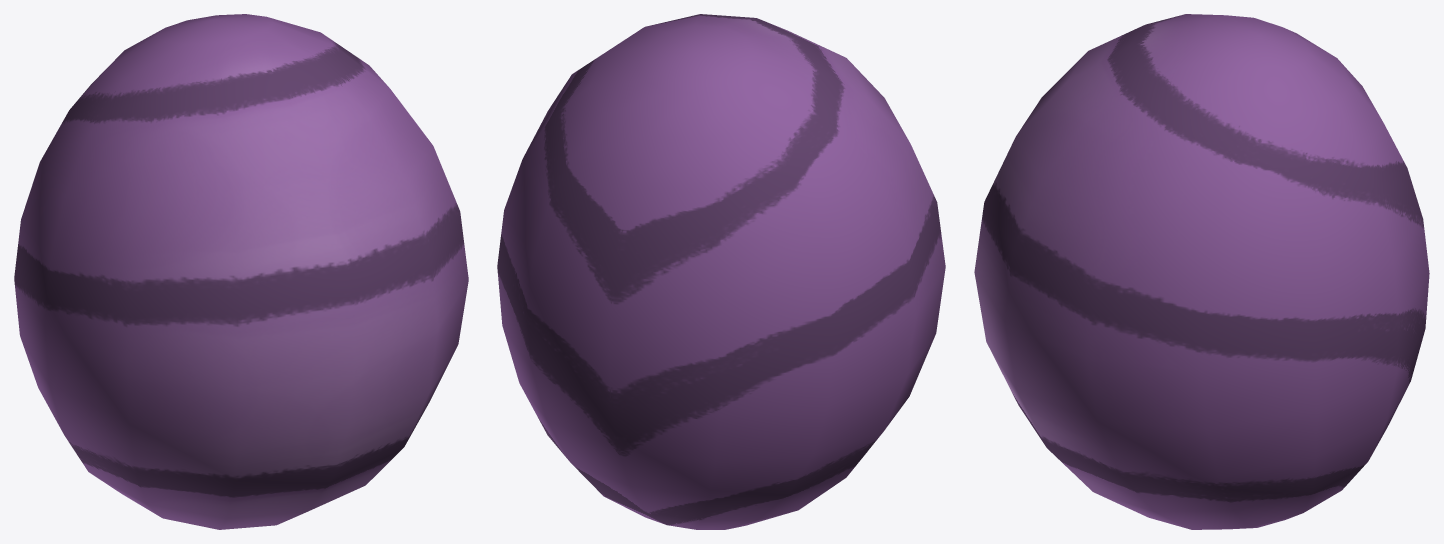
Rendered from Firefly_Cocoon.fbx.
The picture shows the model from 3 angles, left to right: view 1: azimuth 30°, elevation 25°; view 2: azimuth 150°, elevation 25°; view 3: azimuth 270°, elevation 25°; orthographic projection.
Parts seen in each view (by area): view 1: pSphere1; view 2: pSphere1; view 3: pSphere1.
Part boxes in pixels (x1,y1,x2,y2): pSphere1: [14, 14, 468, 529]; pSphere1: [497, 14, 945, 529]; pSphere1: [974, 14, 1429, 529].
Bounding box in the file's own units: 119 × 139 × 119.
